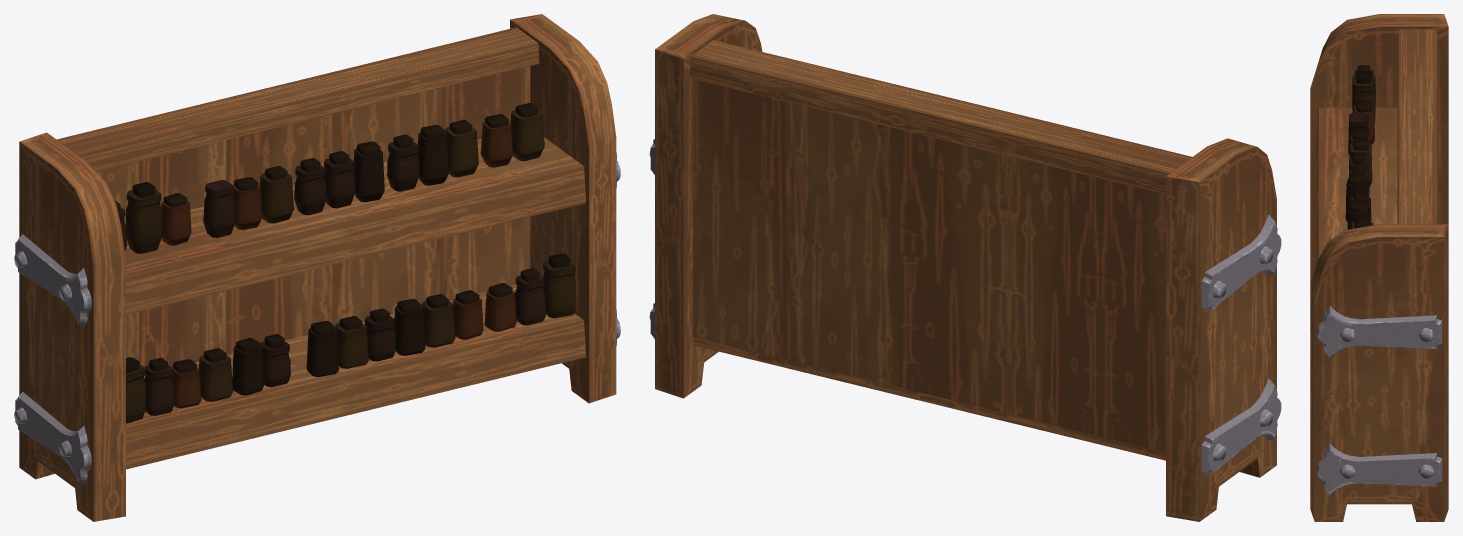
File: shelf-small-bottles.glb
3 views of the same model, side by side, from view 1: azimuth 30°, elevation 25°; view 2: azimuth 150°, elevation 25°; view 3: azimuth 270°, elevation 25° (orthographic). The views are drawn at different scales.
Visible parts, largest first — view 1: Shelf_Small_Bottles; view 2: Shelf_Small_Bottles; view 3: Shelf_Small_Bottles.
Part boxes in pixels (x1=…): Shelf_Small_Bottles: x1=14, y1=14, x2=620, y2=521; Shelf_Small_Bottles: x1=649, y1=14, x2=1281, y2=521; Shelf_Small_Bottles: x1=1310, y1=14, x2=1448, y2=521.
Size of the model in its own units: 1.14 by 0.6474 by 0.2846.
3 materials, 3 textured.
